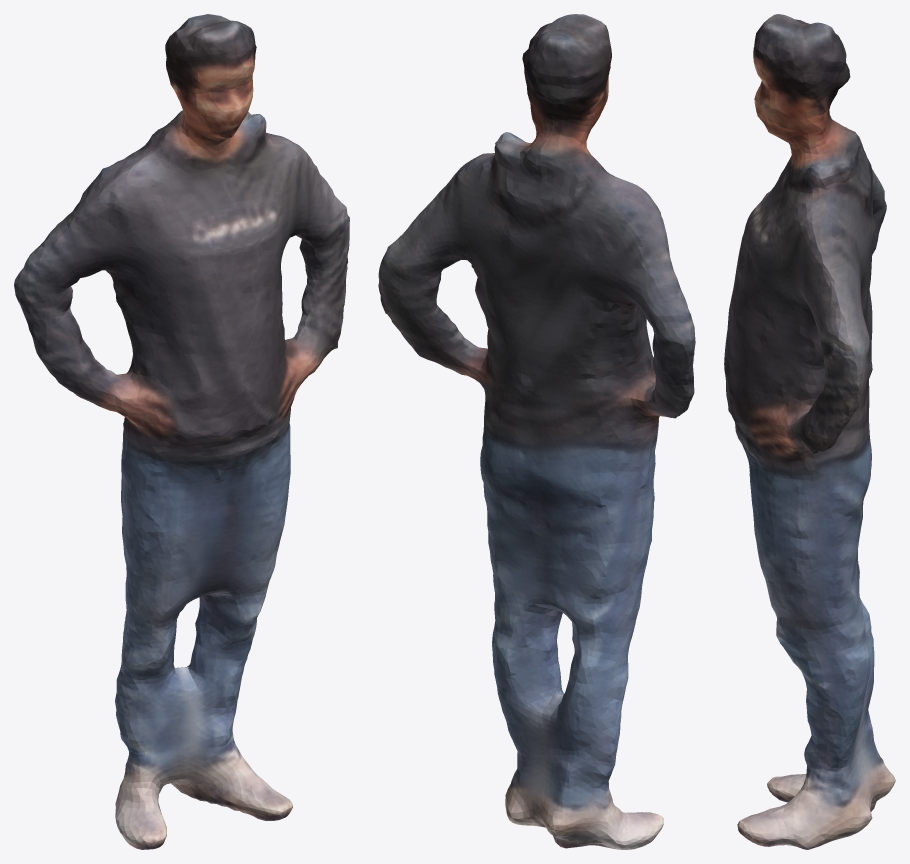
Rendered from pdf3.glb.
The picture shows the model from 3 angles, left to right: view 1: azimuth 30°, elevation 25°; view 2: azimuth 150°, elevation 25°; view 3: azimuth 270°, elevation 25°; orthographic projection.
Bounding box in the file's own units: 0.5519 × 1.31 × 0.2509.
1 material, 1 textured.
